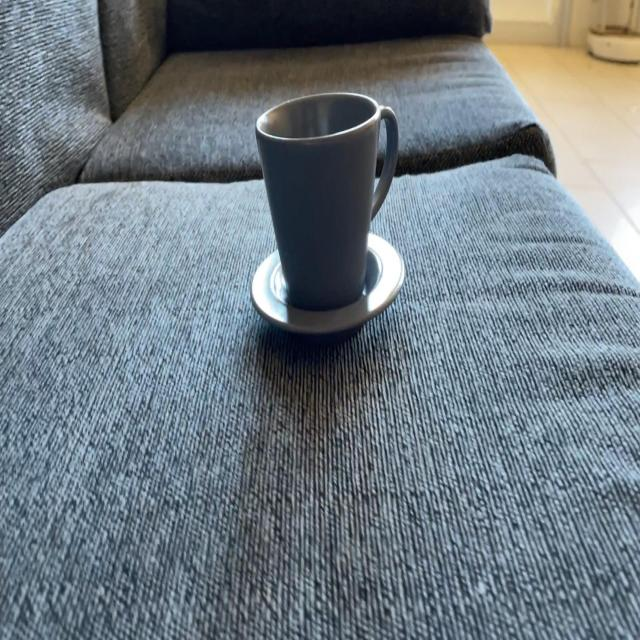cup: (255, 86, 400, 305)
